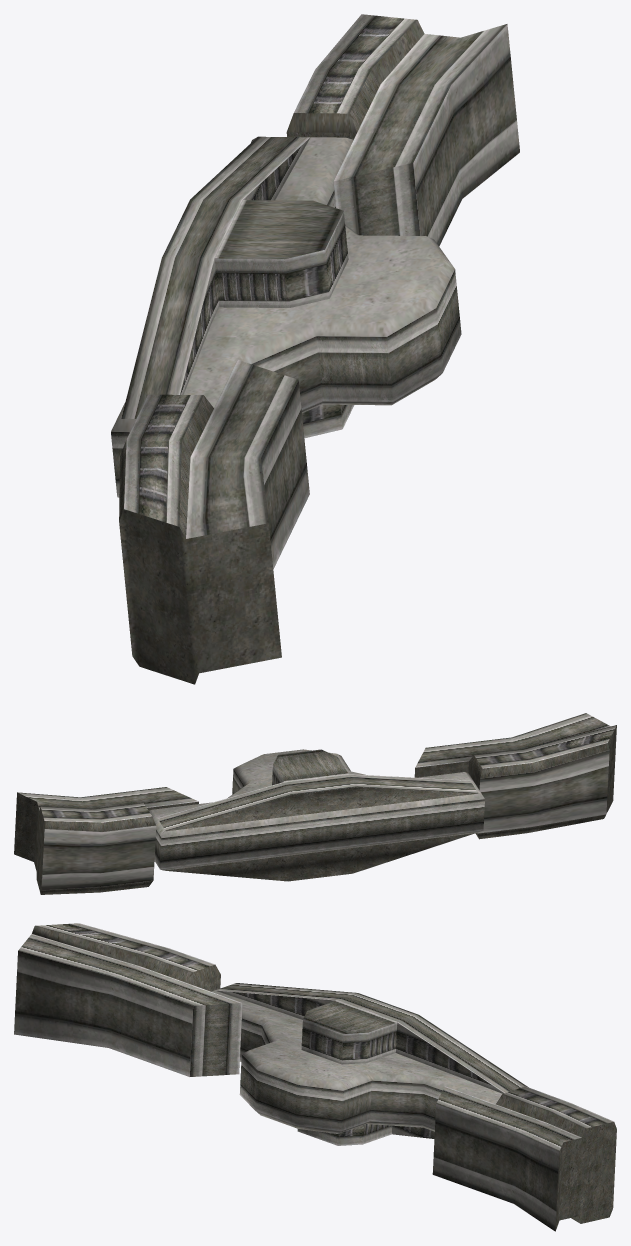
The model's file is DWARF_PALACE_MAINHALL_DEBREE02.fbx.
The picture shows the model from 3 angles, top to bottom: view 1: azimuth 30°, elevation 25°; view 2: azimuth 150°, elevation 25°; view 3: azimuth 270°, elevation 25°; orthographic projection. The views are drawn at different scales.
Visible parts, largest first — view 1: DWARF_PALACE_MAINHALL_DEBREE02; view 2: DWARF_PALACE_MAINHALL_DEBREE02; view 3: DWARF_PALACE_MAINHALL_DEBREE02.
Boxes of the visible parts, box(x1,y1,x2,y2) form: DWARF_PALACE_MAINHALL_DEBREE02: box(111, 14, 519, 684); DWARF_PALACE_MAINHALL_DEBREE02: box(14, 713, 616, 894); DWARF_PALACE_MAINHALL_DEBREE02: box(14, 923, 616, 1231).
Size of the model in its own units: 101702 by 23700 by 110818.
4 materials, 4 textured.
